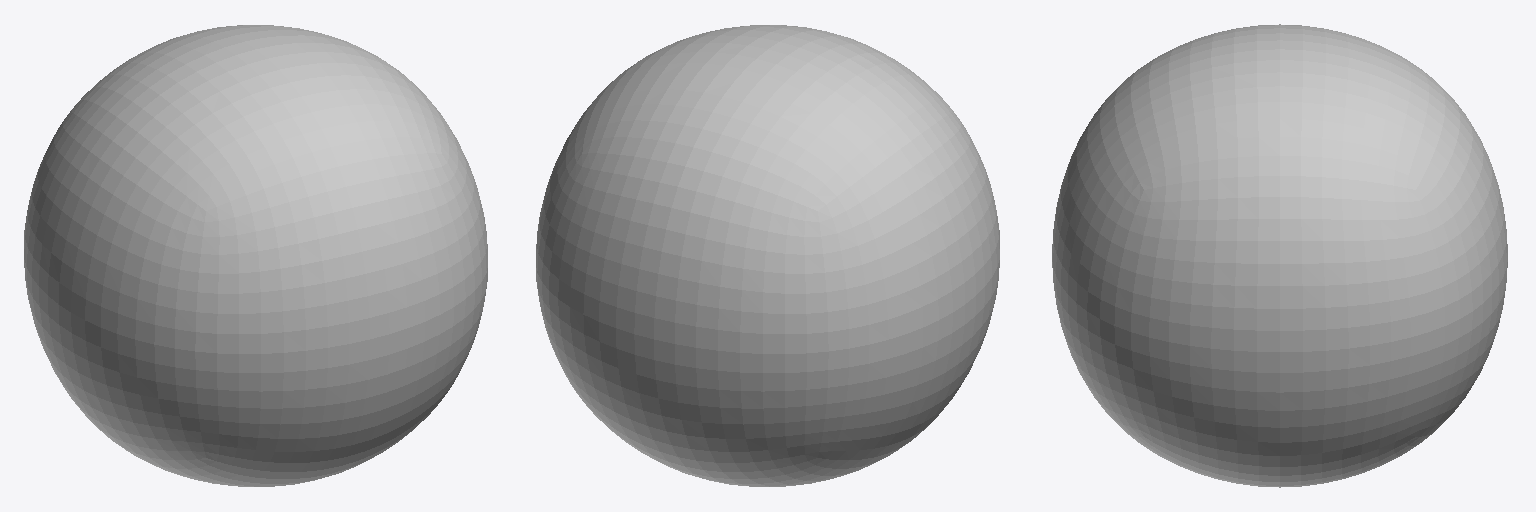
File: smileguy.obj
3 renders of one model, left to right at view 1: azimuth 30°, elevation 25°; view 2: azimuth 150°, elevation 25°; view 3: azimuth 270°, elevation 25°, orthographic.
Parts seen in each view (by area): view 1: SmileGuy.DESTROY; view 2: SmileGuy.DESTROY; view 3: SmileGuy.DESTROY.
Boxes of the visible parts, x1,y1,x2,y2 form: SmileGuy.DESTROY: [24, 25, 487, 486]; SmileGuy.DESTROY: [536, 25, 999, 486]; SmileGuy.DESTROY: [1052, 24, 1507, 487].
Bounding box in the file's own units: 2 × 2 × 2.